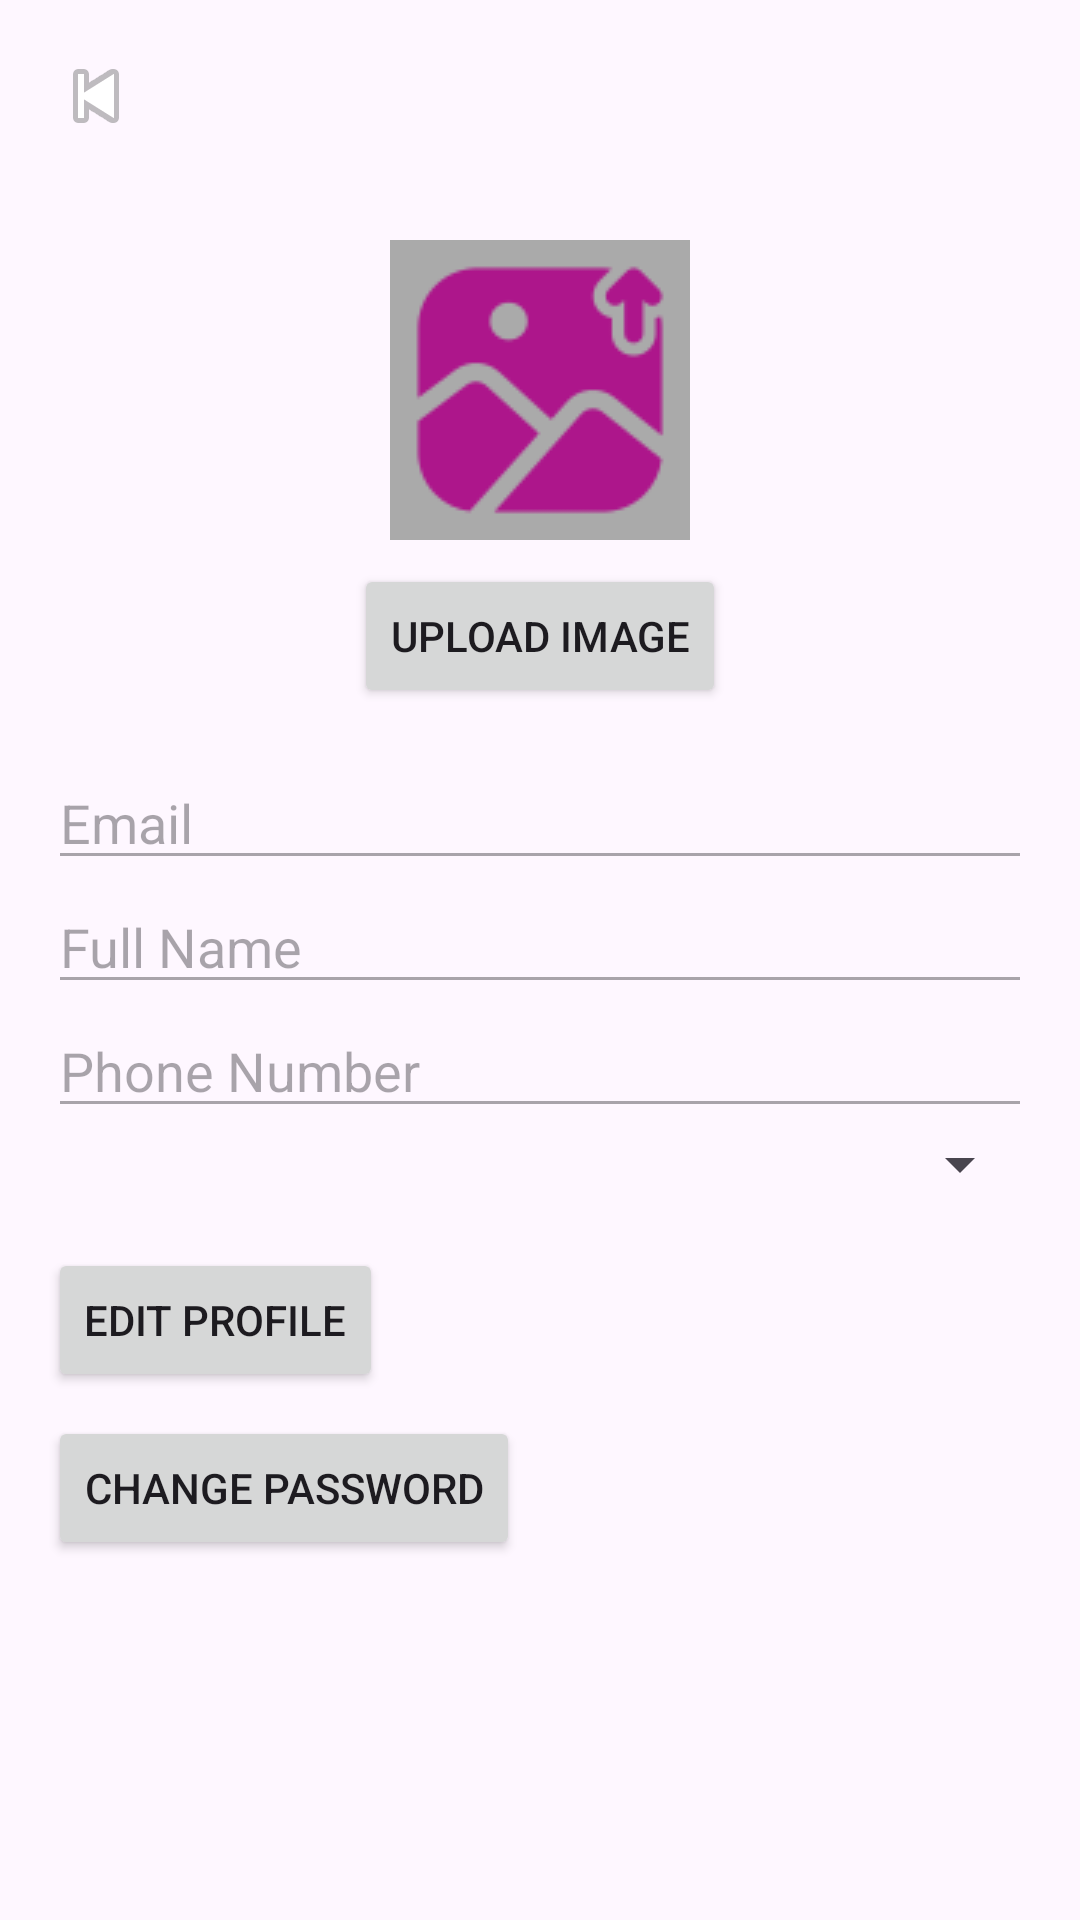

Named icons in this screenshot (1080px×1920px) and their bounding boxes, (x1=x1, y1=y1, x2=x2, y2=y2):
Profile Picture: (x1=390, y1=240, x2=690, y2=540)
